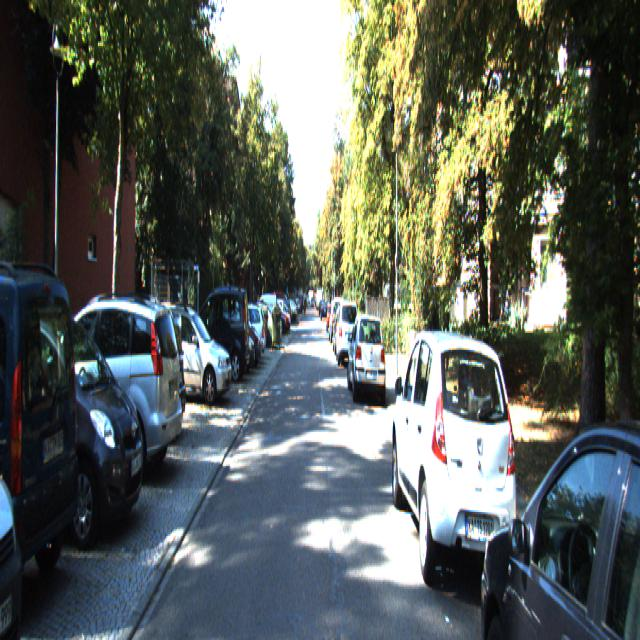Car: (486, 364, 639, 638), (391, 319, 525, 608), (0, 307, 149, 552), (16, 288, 184, 490), (0, 243, 85, 626), (143, 296, 233, 404), (183, 282, 250, 385), (348, 312, 387, 407), (212, 300, 266, 366), (336, 298, 360, 368)
